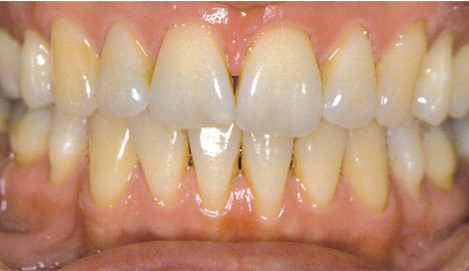1st Premolar: (415, 22, 453, 126), (46, 118, 87, 188), (19, 22, 50, 108), (389, 128, 424, 204)
2nd Premolar: (11, 108, 47, 167), (424, 126, 456, 189), (0, 24, 19, 100), (453, 37, 468, 119)
Canine: (377, 16, 426, 128), (50, 12, 96, 117), (87, 118, 132, 210), (346, 125, 389, 216)
Central Incisor: (234, 19, 322, 135), (148, 17, 233, 127), (186, 121, 241, 220), (241, 122, 293, 225)
Lateral Incisor: (322, 19, 377, 127), (96, 18, 148, 118), (132, 116, 186, 210), (293, 125, 347, 213)
